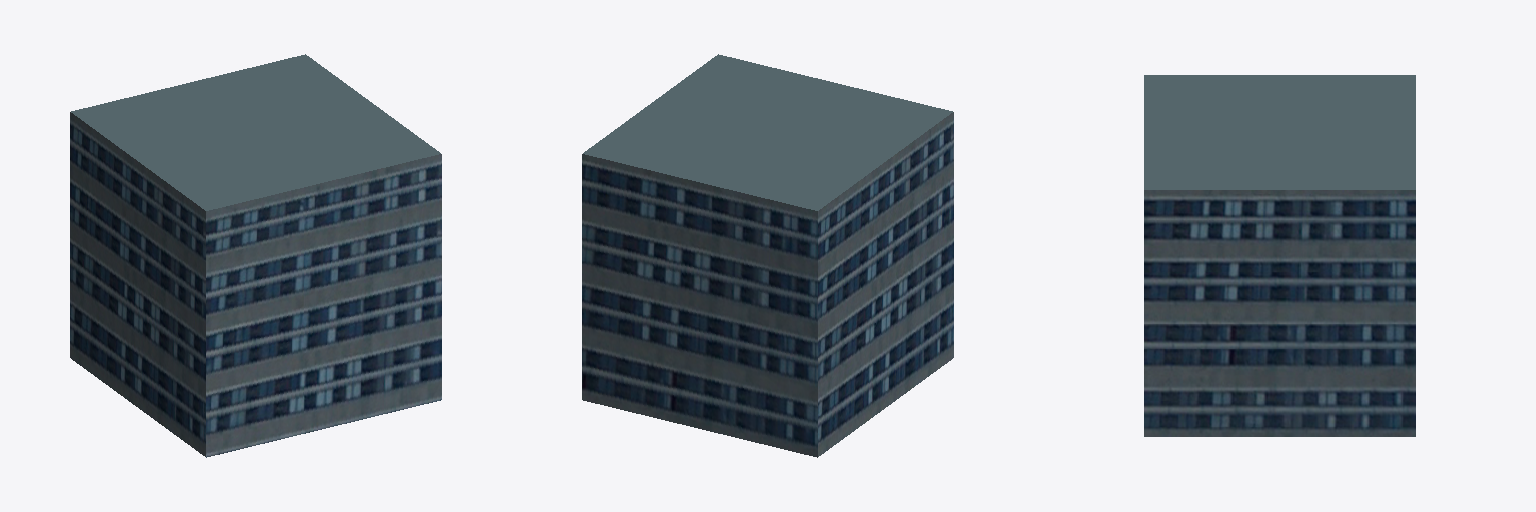
3 views of the same model, side by side, from view 1: azimuth 30°, elevation 25°; view 2: azimuth 150°, elevation 25°; view 3: azimuth 270°, elevation 25° (orthographic).
Parts seen in each view (by area): view 1: Cube; view 2: Cube; view 3: Cube.
Boxes of the visible parts, x1=… form: Cube: x1=70, y1=54, x2=441, y2=457; Cube: x1=582, y1=54, x2=953, y2=457; Cube: x1=1144, y1=75, x2=1415, y2=436.
Size of the model in its own units: 2 by 2 by 2.
Materials: 1 (1 with a texture image).